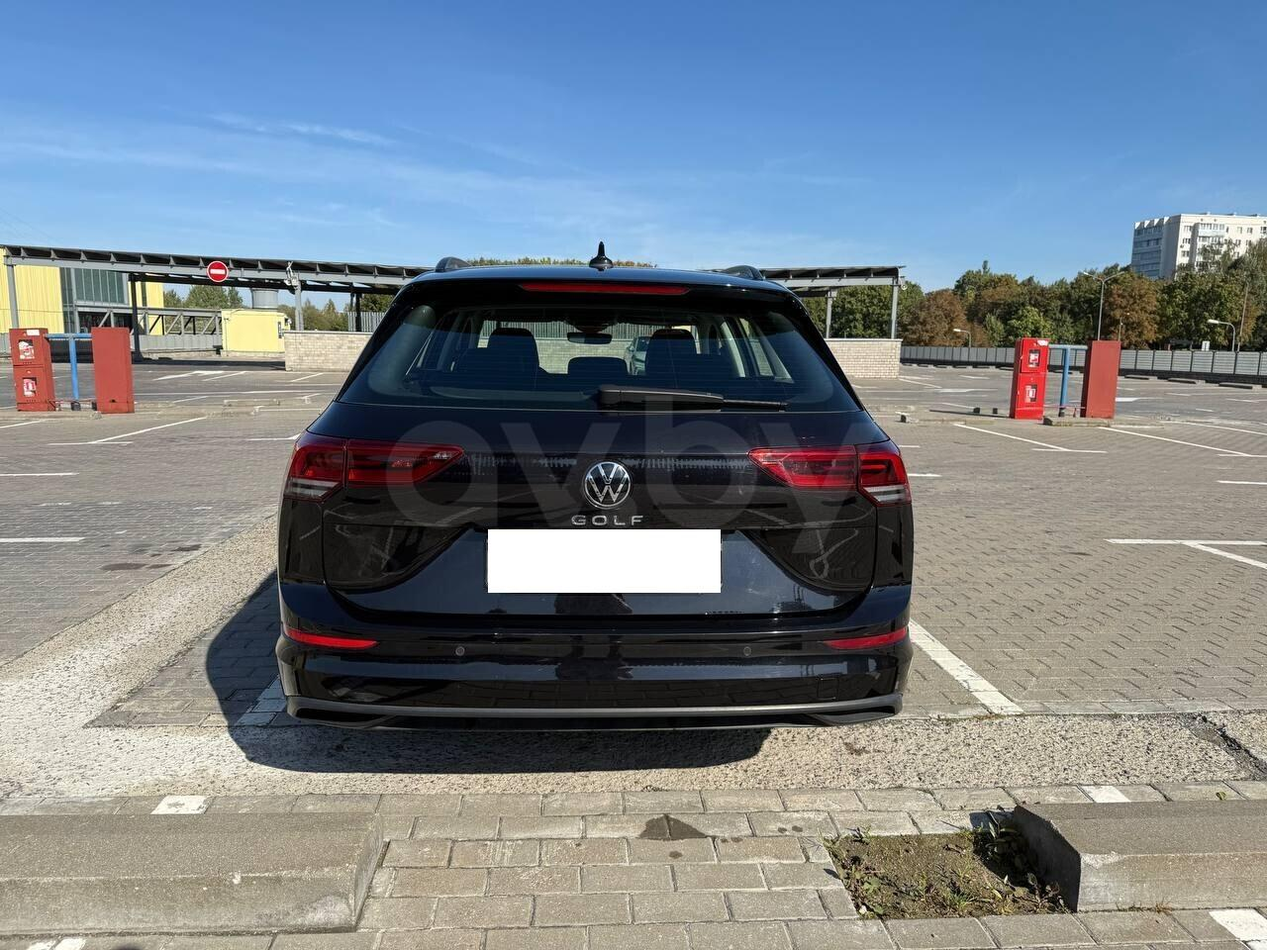Golf_2019: (272, 268, 908, 738)
